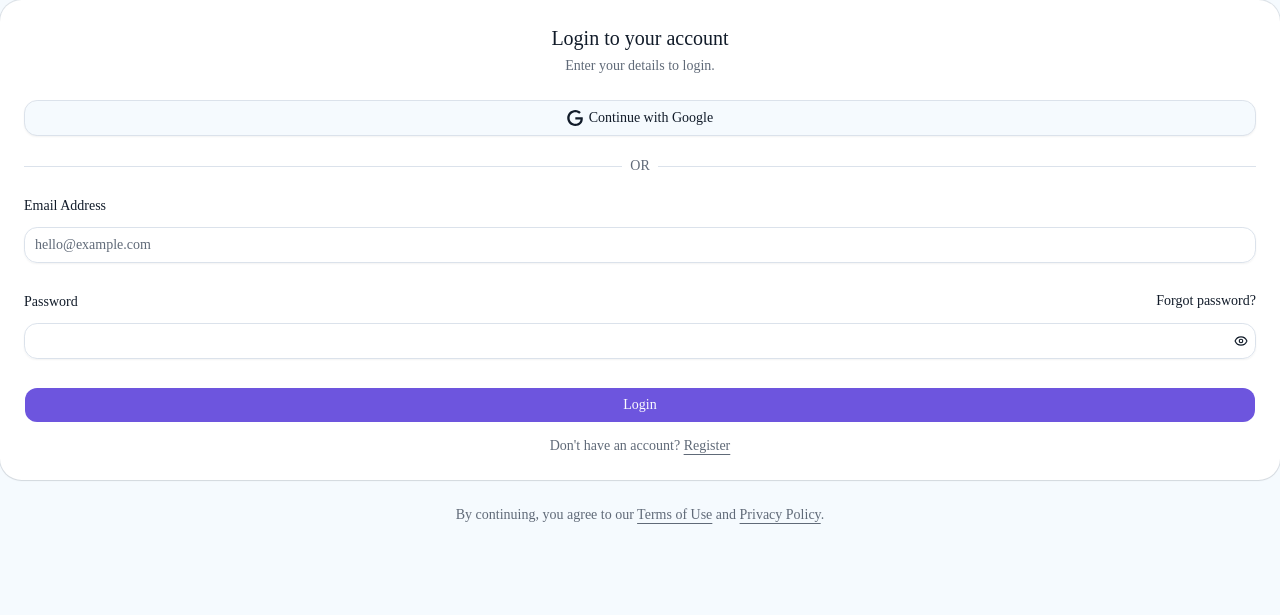
Test case: LoginForm › shows a destructive alert when loginAction returns an error
Type "user@example.com" into the field labelled "Email Address".
click(640, 245); type("user@example.com")  # box [24,227,1256,263]
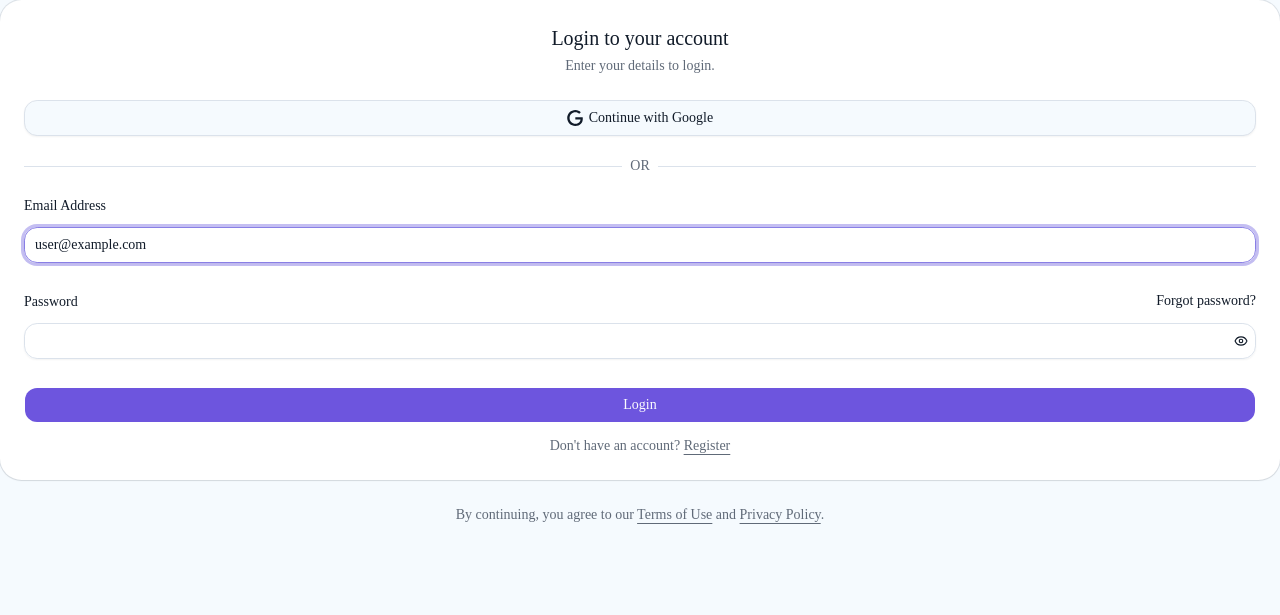
Type "wrongpass" into the password field labelled "Password".
click(626, 341); type("wrongpass")  # box [25,323,1227,359]
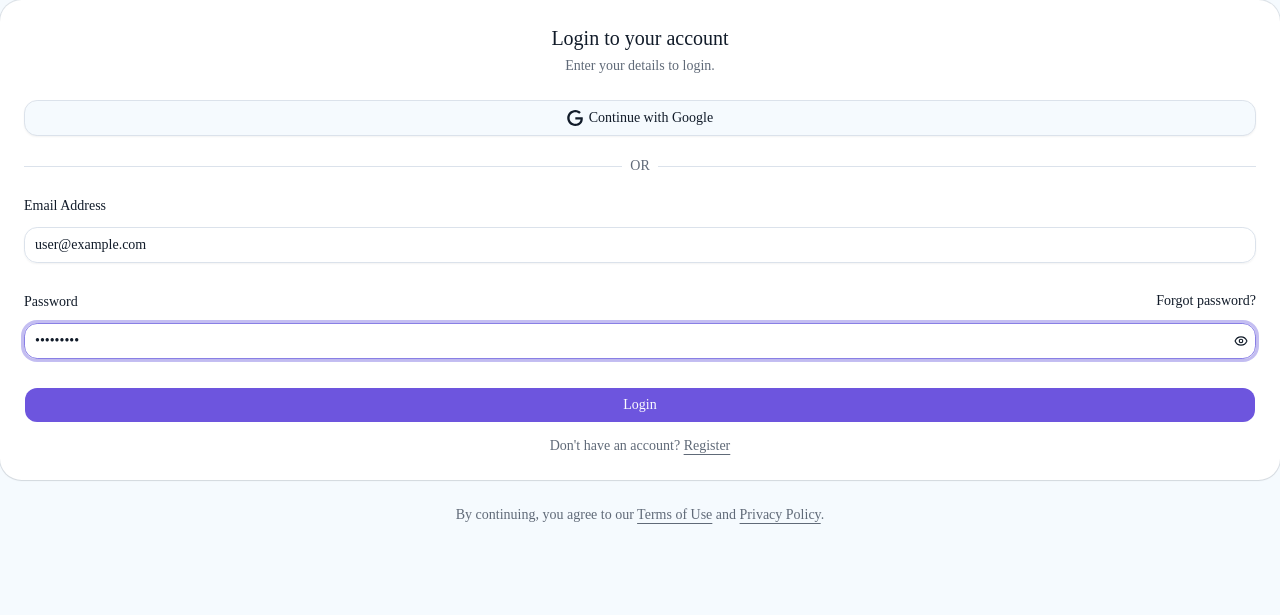
Click the button "Login".
click(640, 405)  # box [24,387,1256,423]
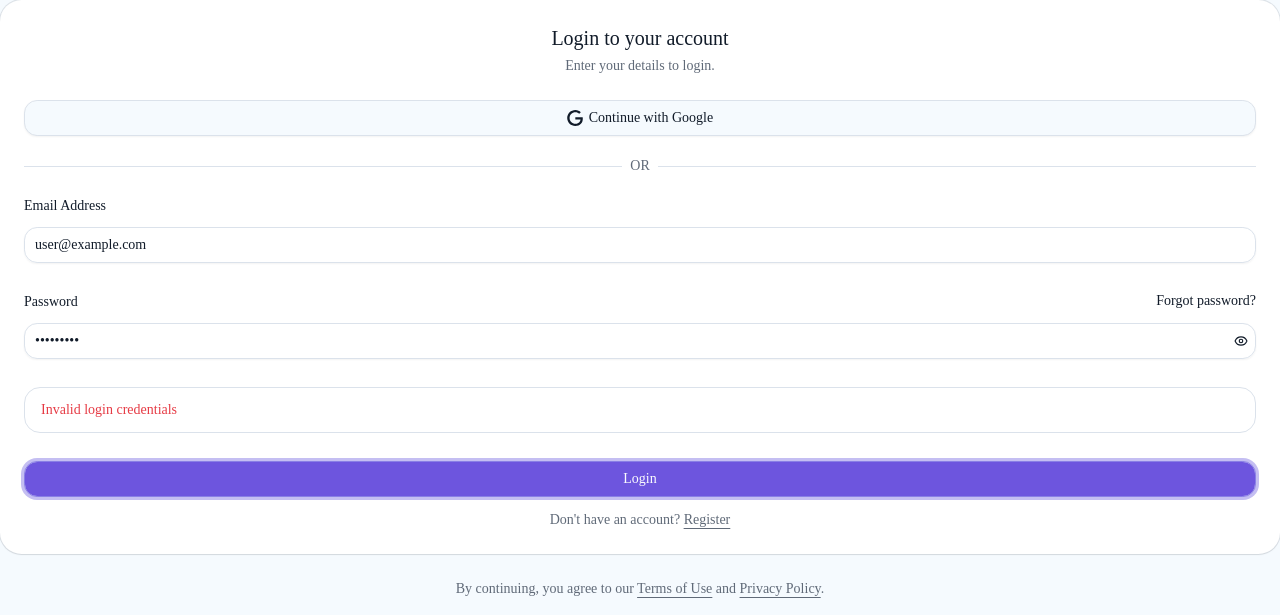
Expected: the message "Invalid login credentials" is shown, [24,387,1256,433]
Expected: the message reads "Invalid login credentials", [41,402,177,417]
